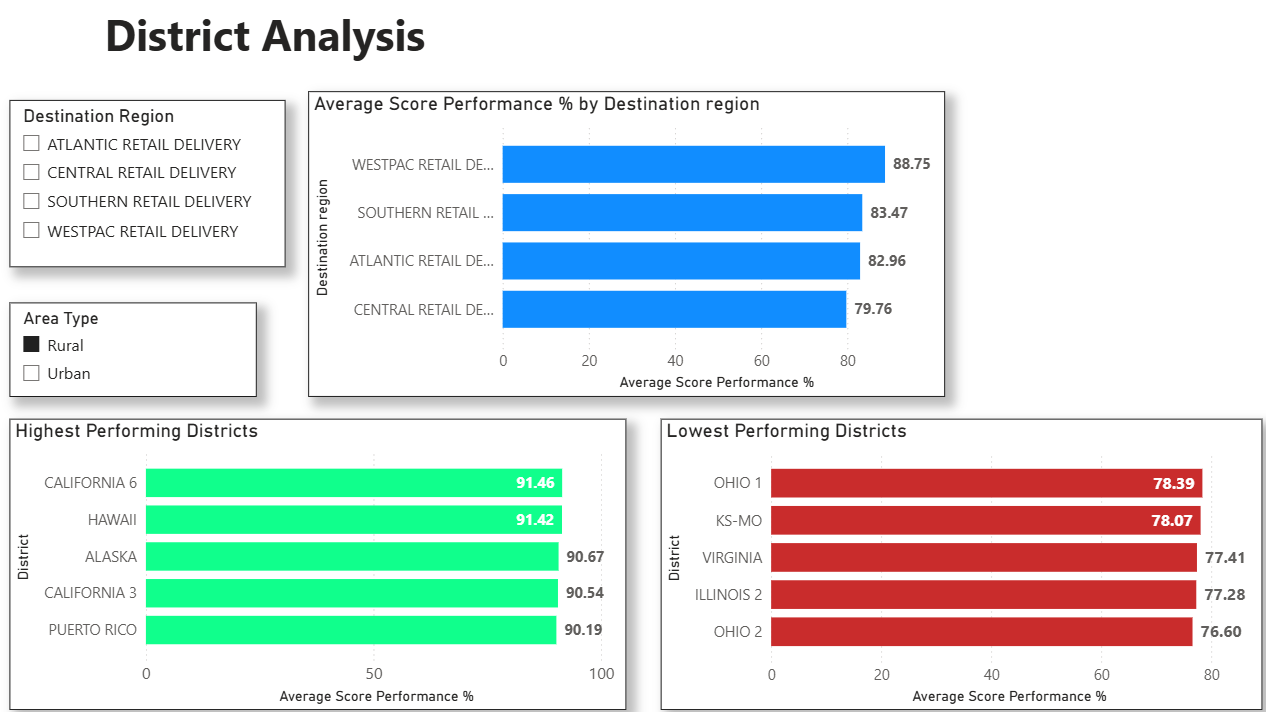

This screenshot's page, from the dashboard's own definition file:
{"tool":"powerbi","page":{"name":"District Analysis (Annual)","canvas":[1280,720],"ordinal":1},"visuals":[{"type":"slicer","fields":{"Values":["distract_performance_updated.Area_Type"]},"box":[12.9,302.9,247.1,94.3],"z":0},{"type":"barChart","fields":{"Category":["distract_performance_updated.destn_area_name"],"Y":["Avg(distract_performance_updated.Average Score Performance %)"]},"box":[311.4,91.4,637.1,305.7],"z":1000},{"type":"barChart","title":"Highest Performing Districts","fields":{"Category":["distract_performance_updated.destn_dist_name"],"Y":["Avg(distract_performance_updated.Average Score Performance %)"]},"box":[12.9,418.6,617.1,291.4],"z":2000},{"type":"barChart","title":"Lowest Performing Districts","fields":{"Category":["distract_performance_updated.destn_dist_name"],"Y":["Avg(distract_performance_updated.Average Score Performance %)"]},"box":[664.3,418.6,601.4,291.4],"z":3000},{"type":"slicer","fields":{"Values":["distract_performance_updated.destn_area_name"]},"box":[12.9,100,275.7,167.1],"z":3001},{"type":"textbox","box":[102.9,0,588.6,74.3],"z":3002}]}

Visuals, with their boxes in screenshot pixels (x1, y1, x2, y2), scaled from the page's 1280x720 canvas onto the 1266x712 screenshot:
slicer - distract_performance_updated.Area_Type: <box>13,300,257,393</box>
barChart - distract_performance_updated.destn_area_name x Avg(distract_performance_updated.Average Score Performance %): <box>308,90,938,393</box>
"Highest Performing Districts" barChart: <box>13,414,623,702</box>
"Lowest Performing Districts" barChart: <box>657,414,1252,702</box>
slicer - distract_performance_updated.destn_area_name: <box>13,99,285,264</box>
textbox: <box>102,0,684,73</box>
